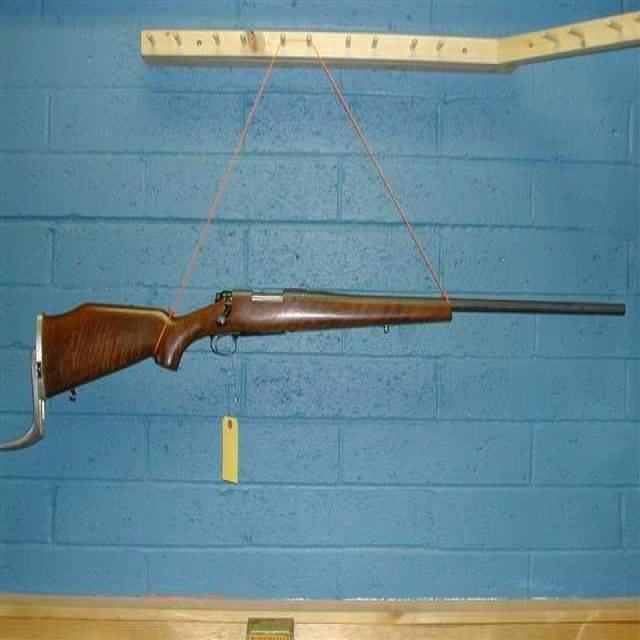heavyweapon: (11, 256, 637, 400)
